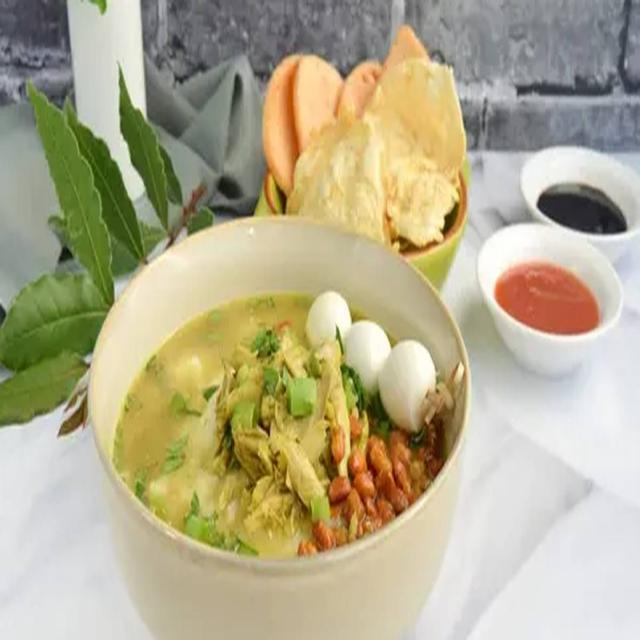bubur ayam: (114, 293, 447, 566)
mangkuk: (86, 217, 472, 629), (257, 29, 470, 297), (476, 221, 624, 380), (519, 144, 640, 270), (399, 167, 468, 296)
sambal: (494, 256, 600, 336)
telur rebus: (378, 336, 438, 434), (340, 318, 390, 399), (306, 288, 352, 348)
